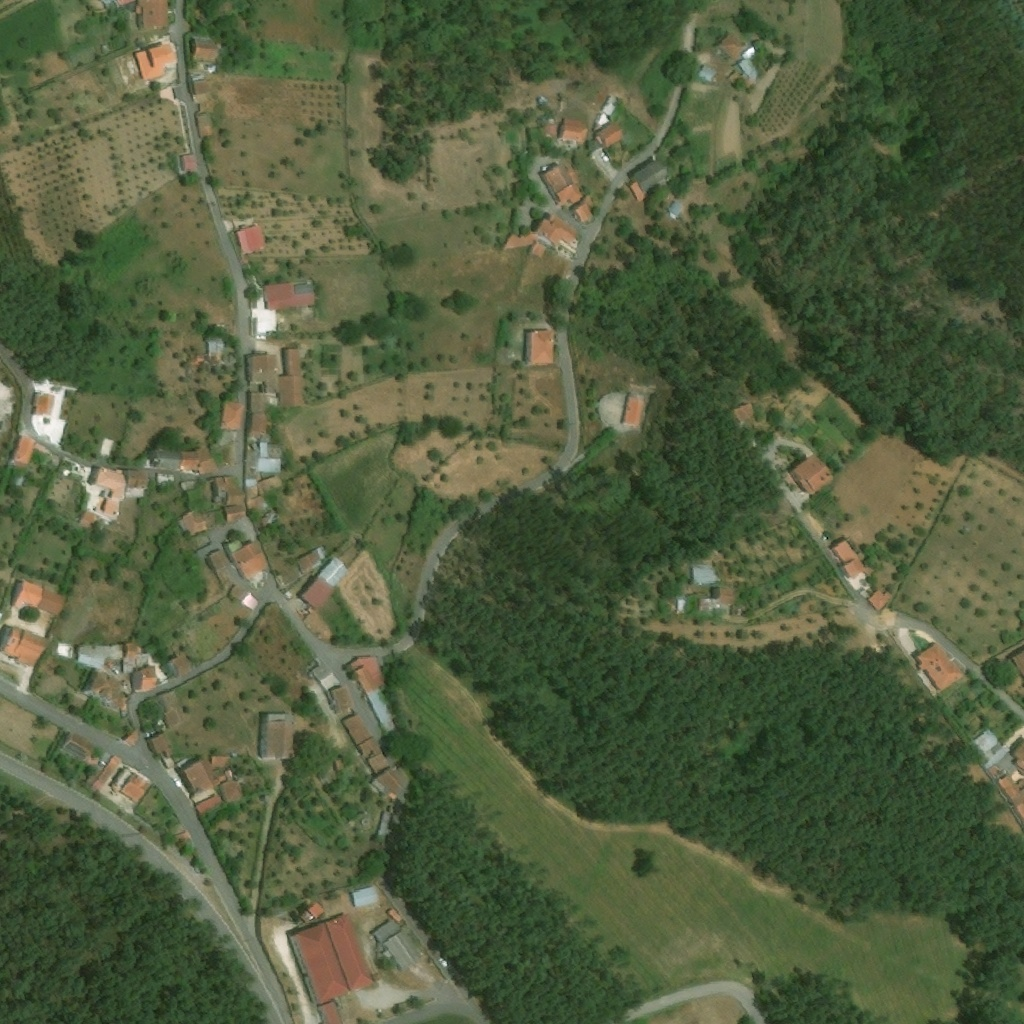0 no-damage: (75, 643, 158, 712), (286, 920, 349, 1005), (346, 656, 400, 735), (323, 912, 375, 992), (296, 554, 349, 611), (370, 917, 424, 970), (914, 640, 963, 692), (223, 536, 269, 581), (790, 452, 836, 496), (539, 161, 583, 206), (829, 536, 874, 580), (627, 157, 670, 202), (0, 626, 47, 667), (90, 467, 126, 518), (17, 579, 66, 616), (133, 42, 178, 82), (262, 280, 316, 311), (258, 713, 294, 759), (179, 442, 227, 475), (534, 210, 578, 245), (182, 756, 220, 795), (375, 765, 412, 799), (735, 45, 769, 81), (90, 755, 122, 793), (996, 774, 1023, 818), (523, 329, 554, 365), (154, 689, 184, 726), (60, 732, 95, 763), (340, 712, 371, 746), (182, 505, 215, 536), (699, 582, 735, 610), (295, 545, 328, 575), (234, 224, 265, 255), (118, 773, 150, 803), (325, 683, 354, 715), (244, 353, 277, 381), (10, 434, 38, 466), (212, 476, 244, 504), (206, 336, 234, 367), (136, 0, 169, 26), (716, 30, 745, 59), (278, 374, 303, 407), (620, 394, 644, 428), (148, 445, 180, 470), (595, 121, 623, 148), (570, 194, 594, 225), (690, 559, 721, 583), (868, 583, 894, 611), (220, 400, 245, 429), (31, 390, 56, 418), (244, 479, 267, 509), (558, 119, 588, 142), (350, 884, 378, 908), (974, 727, 999, 753), (734, 398, 758, 424), (146, 731, 172, 754), (316, 1001, 343, 1023), (257, 474, 285, 495), (194, 793, 222, 814), (503, 231, 535, 249), (192, 39, 219, 60), (356, 737, 380, 760), (281, 348, 300, 375), (315, 668, 338, 690), (365, 753, 388, 774), (221, 780, 242, 802), (205, 550, 226, 572), (124, 470, 149, 487), (248, 413, 267, 434), (223, 505, 246, 522), (257, 458, 281, 474), (696, 65, 716, 84), (97, 438, 114, 459), (666, 200, 685, 218), (249, 391, 266, 411), (191, 74, 207, 95), (228, 584, 245, 600), (530, 241, 546, 257), (179, 154, 196, 169), (123, 729, 138, 746), (242, 595, 257, 609), (211, 756, 229, 767), (258, 442, 268, 456)
4 un-classified: (1009, 736, 1023, 771), (1011, 648, 1023, 679), (116, 0, 135, 7)
